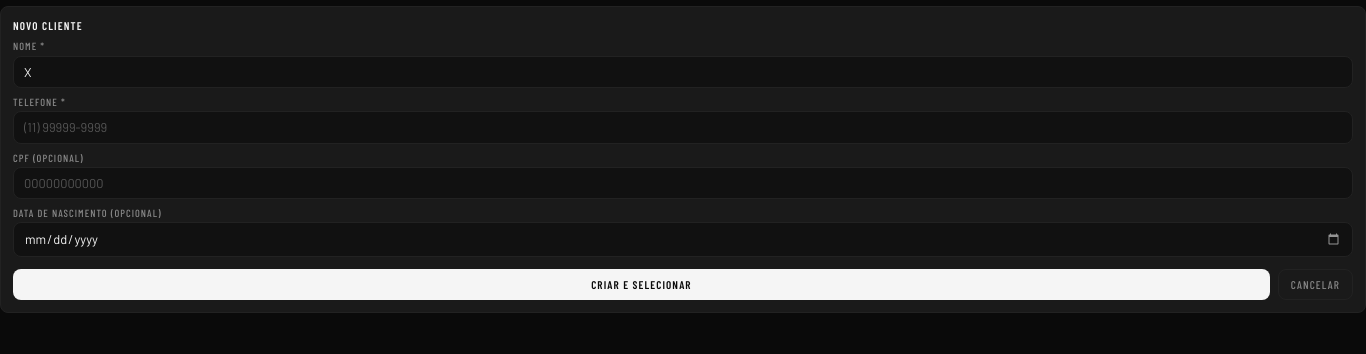
Test: QuickCreateCustomerForm › shows generic error when server has no errors map
This screenshot has width=1366, height=354.
Type "11999999999" into the field with placeholder "(11) 99999-9999" at (683, 127), box x1=13 y1=111 x2=1353 y2=144
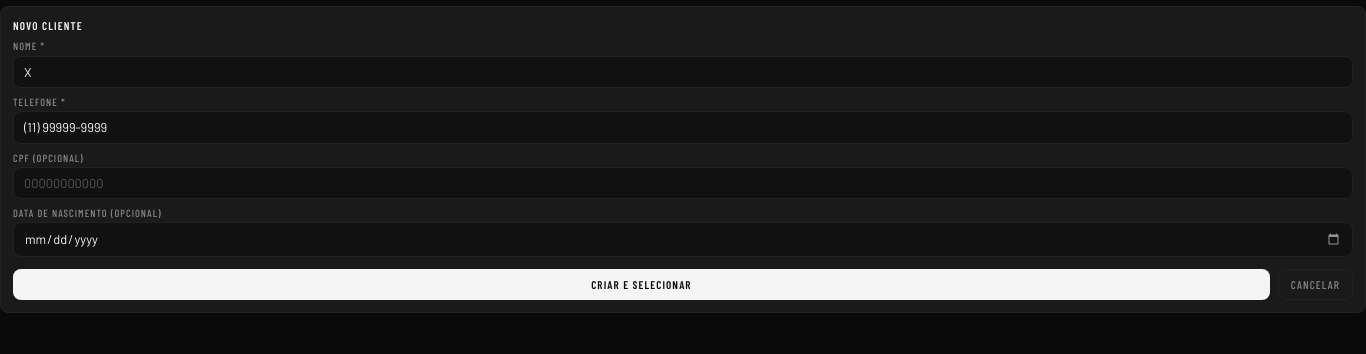
Click the button with test id "quick-create-submit" at (641, 284), box x1=13 y1=269 x2=1270 y2=300
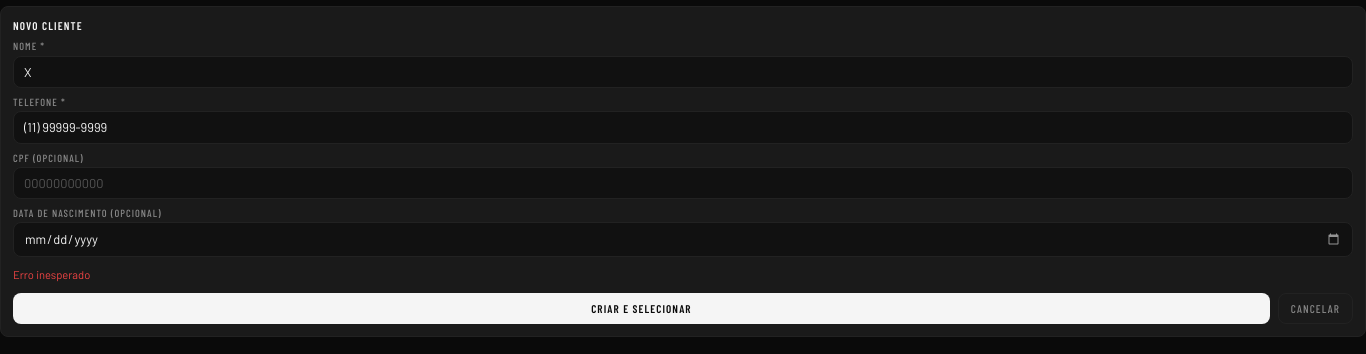
Now the text "Erro inesperado" is shown, box x1=13 y1=268 x2=90 y2=281
